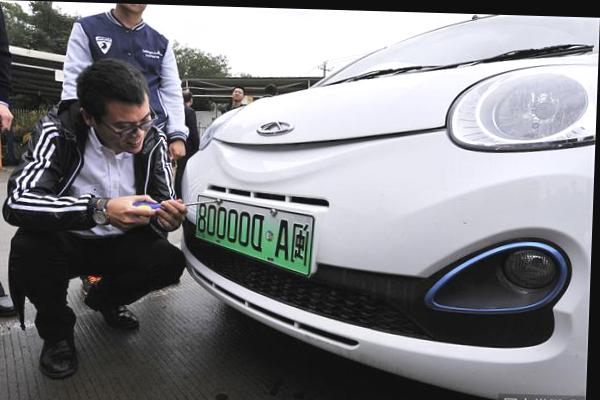License_Plate: (195, 191, 318, 282)
